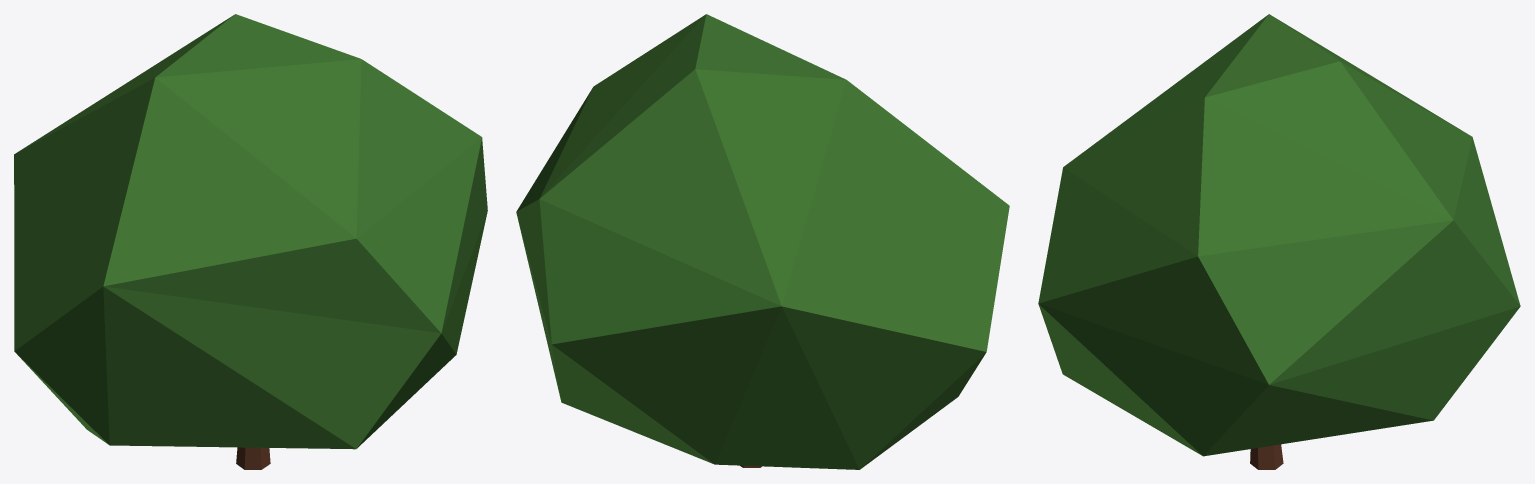
The model's file is Tree_04.fbx.
The picture shows the model from 3 angles, left to right: view 1: azimuth 30°, elevation 25°; view 2: azimuth 150°, elevation 25°; view 3: azimuth 270°, elevation 25°; orthographic projection.
Visible parts, largest first — view 1: Tree_04; view 2: Tree_04; view 3: Tree_04.
Part boxes in pixels (x1,y1,x2,y2): Tree_04: (14,14,487,469); Tree_04: (516,14,1009,469); Tree_04: (1038,14,1520,469).
Bounding box in the file's own units: 1755 × 1480 × 1571.
